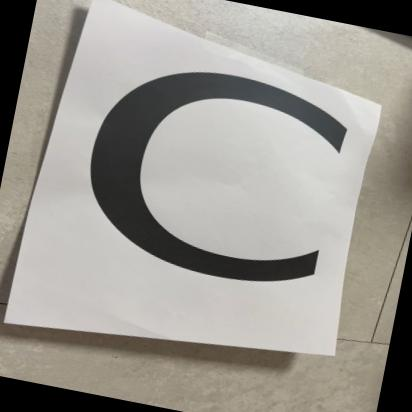seat: (23, 40, 384, 358)
